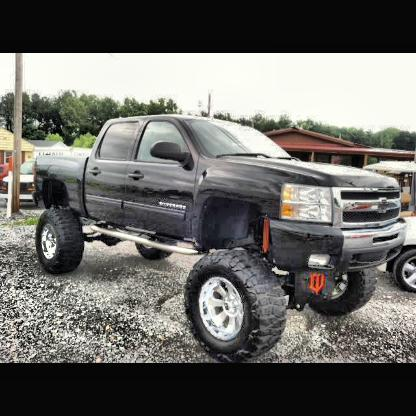Chevrolet Silverado 1500 Hybrid Crew Cab 2012: (34, 115, 407, 360)
